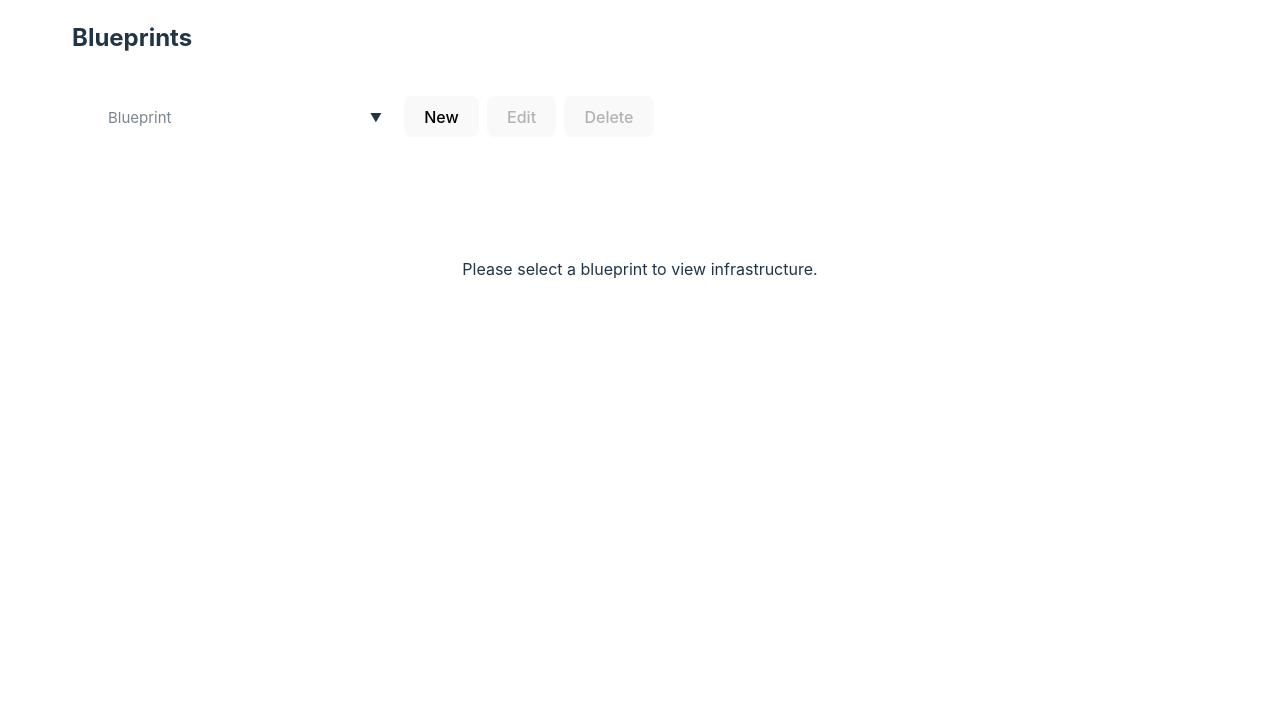
Scenario: Migrated Forms Integration Tests › Infrastructure - Cloud Provider Checkboxes with AngryCheckBox › should allow cloud provider selection when creating blueprint
What coordinates should you click on to do the following:
click the button "New"
I would click on:
 (441, 116)
Its box is [404,96,479,137].
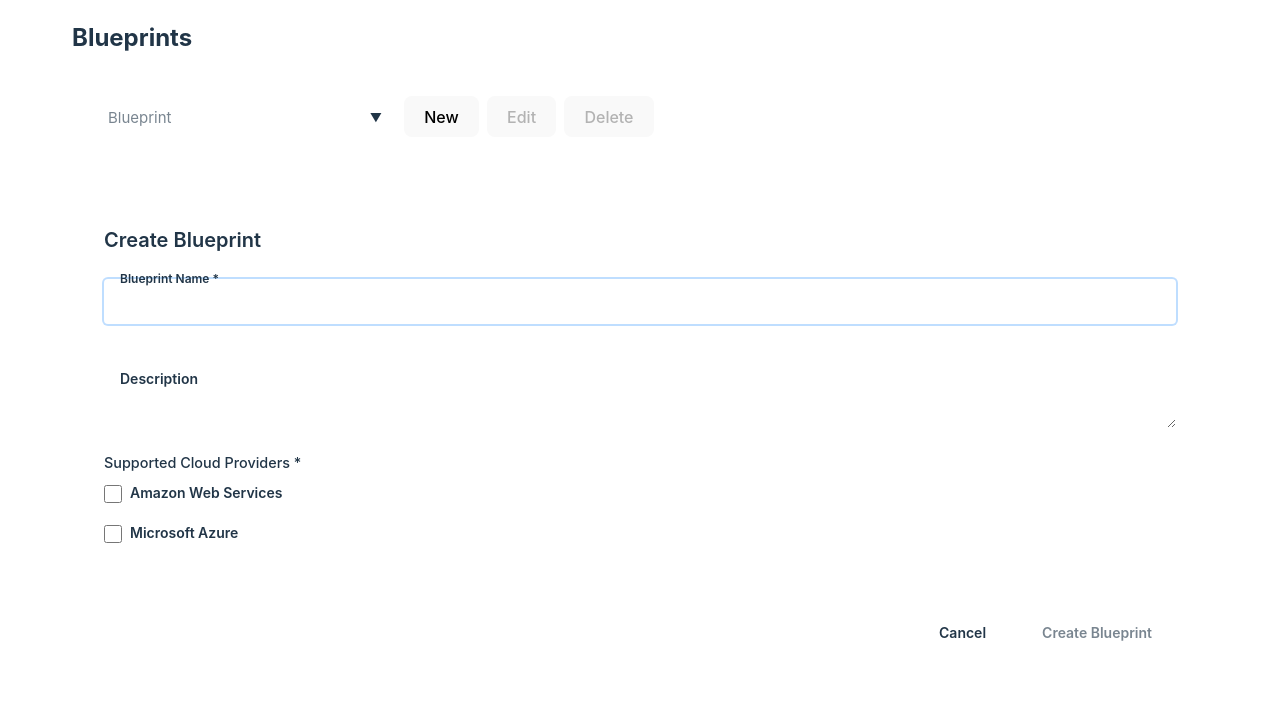
Now the heading "Create Blueprint" is shown, box [104,228,261,252]
